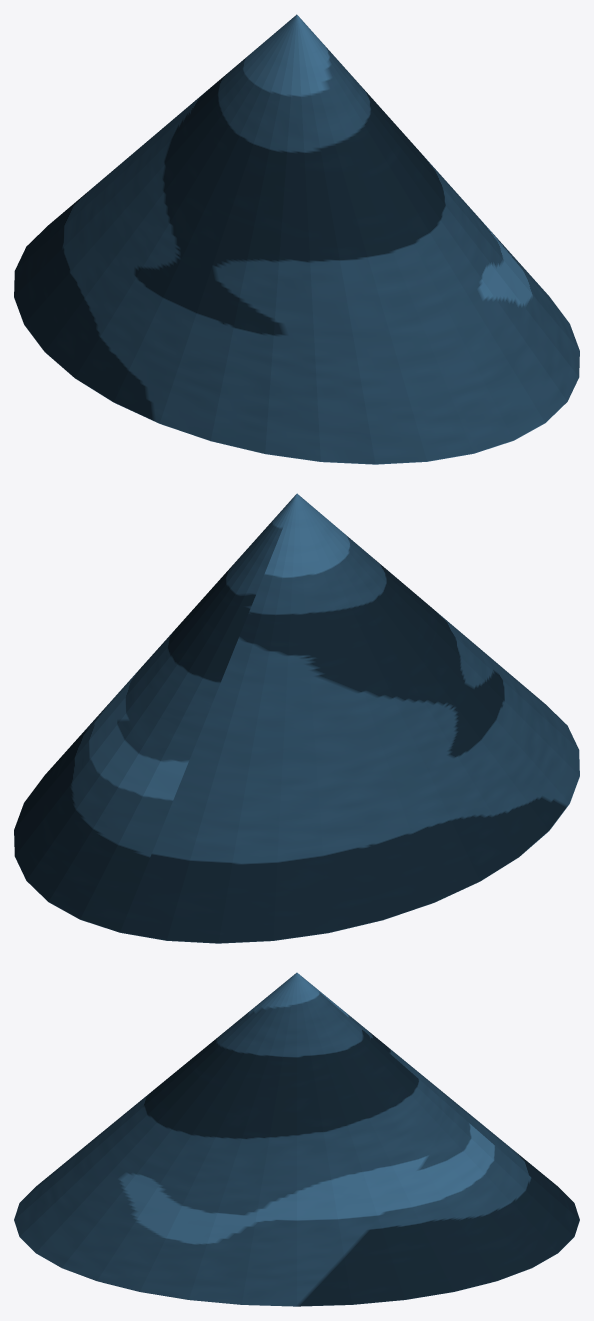
3 views of the same model, one above another, from view 1: azimuth 30°, elevation 25°; view 2: azimuth 150°, elevation 25°; view 3: azimuth 270°, elevation 25° (orthographic). The views are drawn at different scales.
Parts seen in each view (by area): view 1: geometry_0; view 2: geometry_0; view 3: geometry_0.
Part boxes in pixels (x1,y1,x2,y2): geometry_0: (14, 14, 579, 464); geometry_0: (14, 493, 579, 943); geometry_0: (14, 972, 579, 1306).
Size of the model in its own units: 2.04 by 1.36 by 2.82.
1 material, 1 textured.
